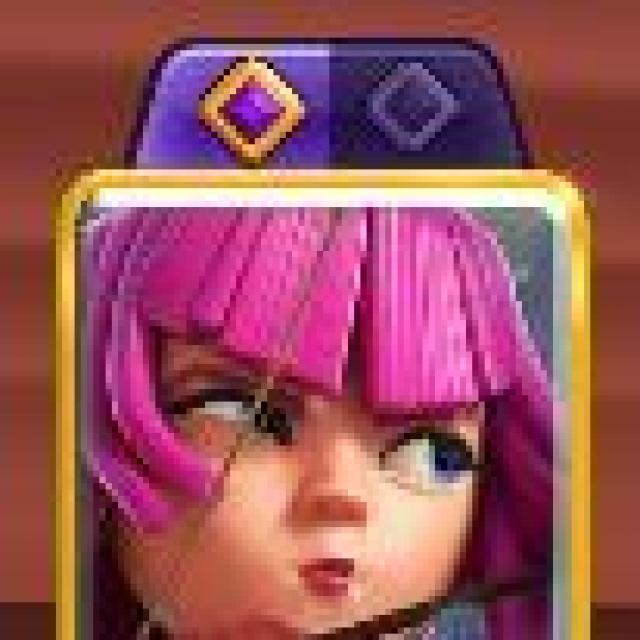Archers: (52, 165, 595, 640)
